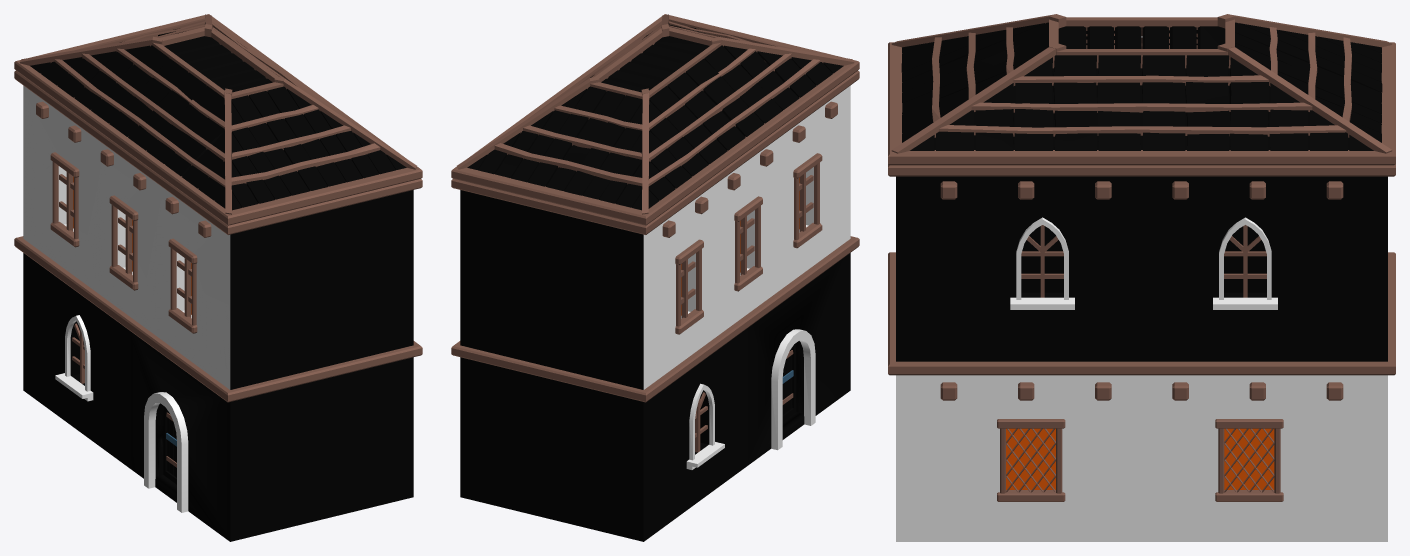
File: civilian_house_38_h.FBX
3 views of the same model, side by side, from view 1: azimuth 30°, elevation 25°; view 2: azimuth 150°, elevation 25°; view 3: azimuth 270°, elevation 25° (orthographic). The views are drawn at different scales.
Parts seen in each view (by area): view 1: civilian_house_38_h_LOD0; view 2: civilian_house_38_h_LOD0; view 3: civilian_house_38_h_LOD0.
Boxes of the visible parts, x1,y1,x2,y2 form: civilian_house_38_h_LOD0: (14, 14, 422, 541); civilian_house_38_h_LOD0: (451, 14, 859, 541); civilian_house_38_h_LOD0: (888, 14, 1395, 541).
Size of what is drawn, in the model's own units: 573 by 1025 by 1032.
